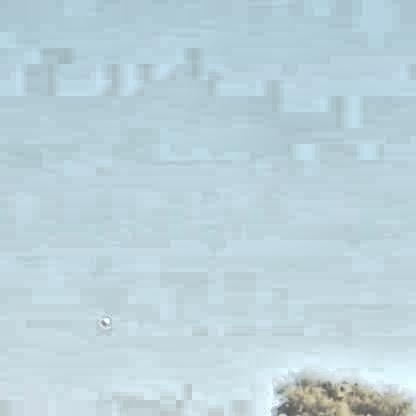golfball: (99, 315, 108, 324)
